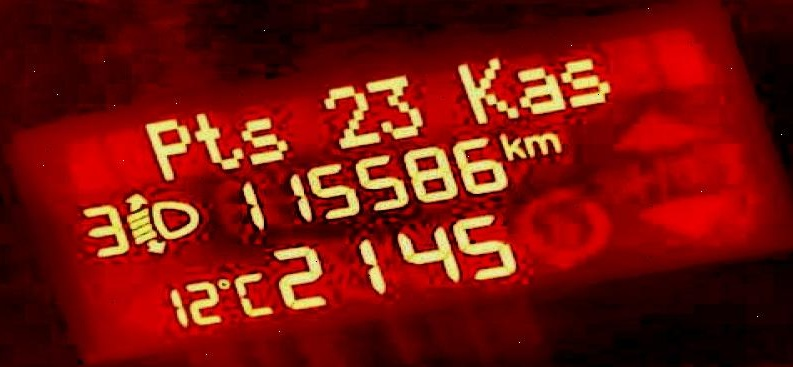1: (355, 235, 387, 295), (237, 180, 265, 230), (287, 171, 313, 221), (167, 286, 188, 327)
2: (320, 84, 379, 149), (270, 244, 327, 310), (182, 279, 224, 325)
3: (362, 73, 424, 139), (80, 203, 130, 256)
4: (394, 224, 461, 283)
5: (449, 213, 517, 279), (352, 152, 409, 210), (304, 161, 361, 218)
6: (449, 135, 507, 194)
8: (400, 144, 459, 203)
X: (454, 56, 517, 123), (141, 117, 190, 180), (194, 111, 244, 170), (558, 56, 611, 107), (238, 116, 287, 165), (516, 65, 564, 114), (232, 270, 274, 317), (521, 131, 559, 156), (496, 131, 524, 161)
